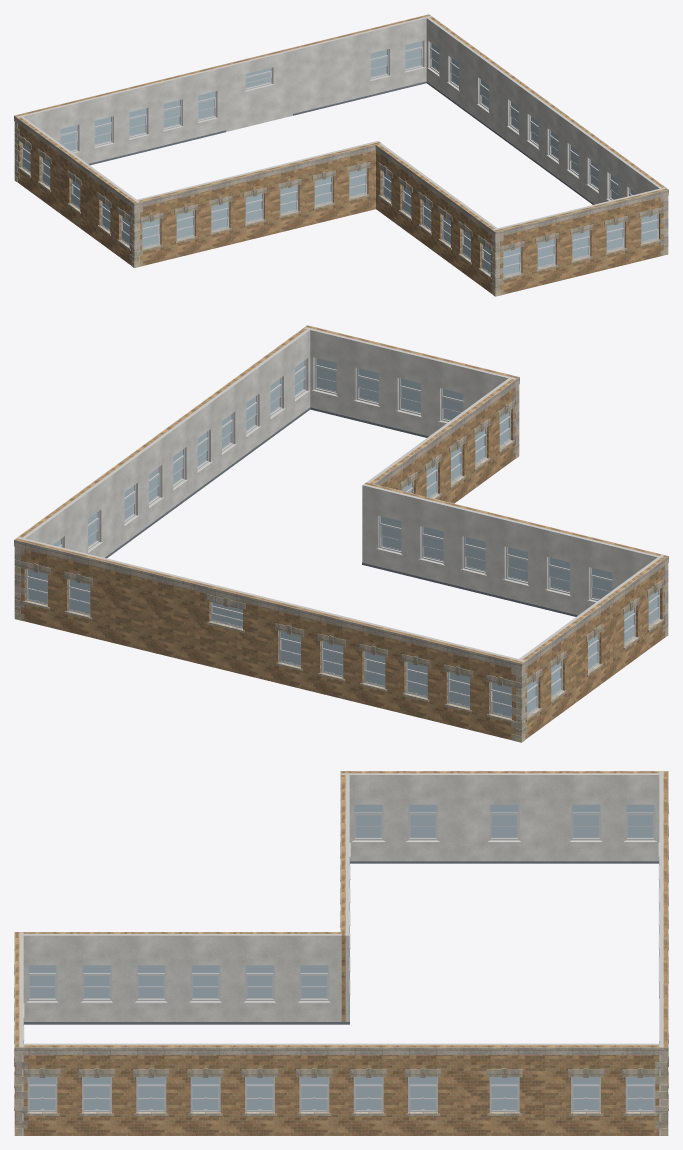
File: shell_t.glb
3 renders of one model, top to bottom at view 1: azimuth 30°, elevation 25°; view 2: azimuth 150°, elevation 25°; view 3: azimuth 270°, elevation 25°, orthographic. The views are drawn at different scales.
Parts seen in each view (by area): view 1: shell_t_plaster, shell_t_brick, shell_t_stone, shell_t_glass, shell_t_alu, shell_t_vinyl, shell_t_stone_d, shell_t_counter; view 2: shell_t_plaster, shell_t_brick, shell_t_glass, shell_t_stone, shell_t_alu, shell_t_vinyl, shell_t_stone_d, shell_t_counter; view 3: shell_t_plaster, shell_t_brick, shell_t_glass, shell_t_stone, shell_t_alu, shell_t_vinyl, shell_t_counter, shell_t_stone_d.
Part boxes in pixels (bbox=[...]): shell_t_plaster: bbox=[17, 16, 665, 293]; shell_t_brick: bbox=[15, 14, 667, 294]; shell_t_stone: bbox=[14, 14, 668, 296]; shell_t_glass: bbox=[22, 41, 657, 275]; shell_t_alu: bbox=[21, 41, 658, 276]; shell_t_vinyl: bbox=[88, 81, 594, 204]; shell_t_stone_d: bbox=[23, 138, 652, 250]; shell_t_counter: bbox=[73, 67, 609, 200]; shell_t_plaster: bbox=[17, 327, 663, 739]; shell_t_brick: bbox=[16, 325, 667, 739]; shell_t_glass: bbox=[27, 358, 658, 716]; shell_t_stone: bbox=[14, 325, 668, 742]; shell_t_alu: bbox=[26, 357, 659, 718]; shell_t_vinyl: bbox=[105, 407, 577, 616]; shell_t_stone_d: bbox=[33, 404, 657, 685]; shell_t_counter: bbox=[87, 390, 595, 602]; shell_t_plaster: bbox=[19, 771, 663, 1135]; shell_t_brick: bbox=[15, 771, 667, 1135]; shell_t_glass: bbox=[29, 804, 653, 1109]; shell_t_stone: bbox=[14, 771, 668, 1135]; shell_t_alu: bbox=[27, 804, 655, 1111]; shell_t_vinyl: bbox=[23, 861, 659, 1043]; shell_t_counter: bbox=[23, 841, 659, 1040]; shell_t_stone_d: bbox=[14, 803, 668, 1077].
Size of the model in its own units: 24.1 by 3.6 by 24.1.
Materials: 9 (4 with a texture image).
